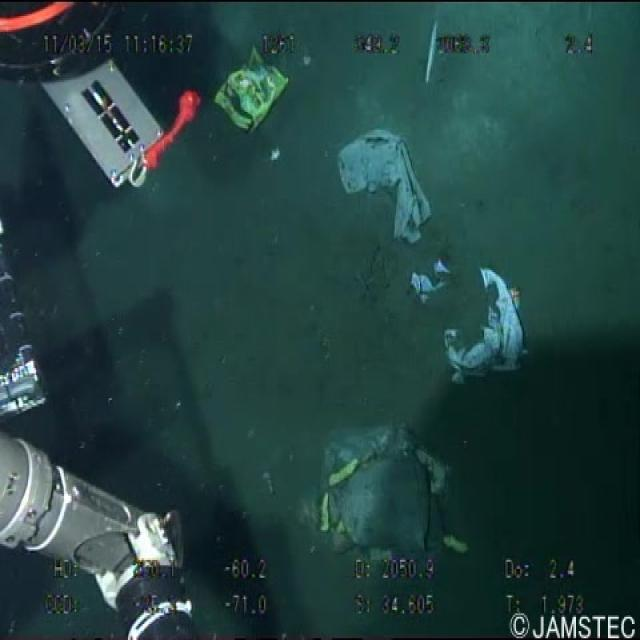plastic: (404, 251, 533, 393), (332, 118, 436, 244), (209, 37, 291, 146)
